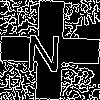N: (25, 25, 63, 72)
